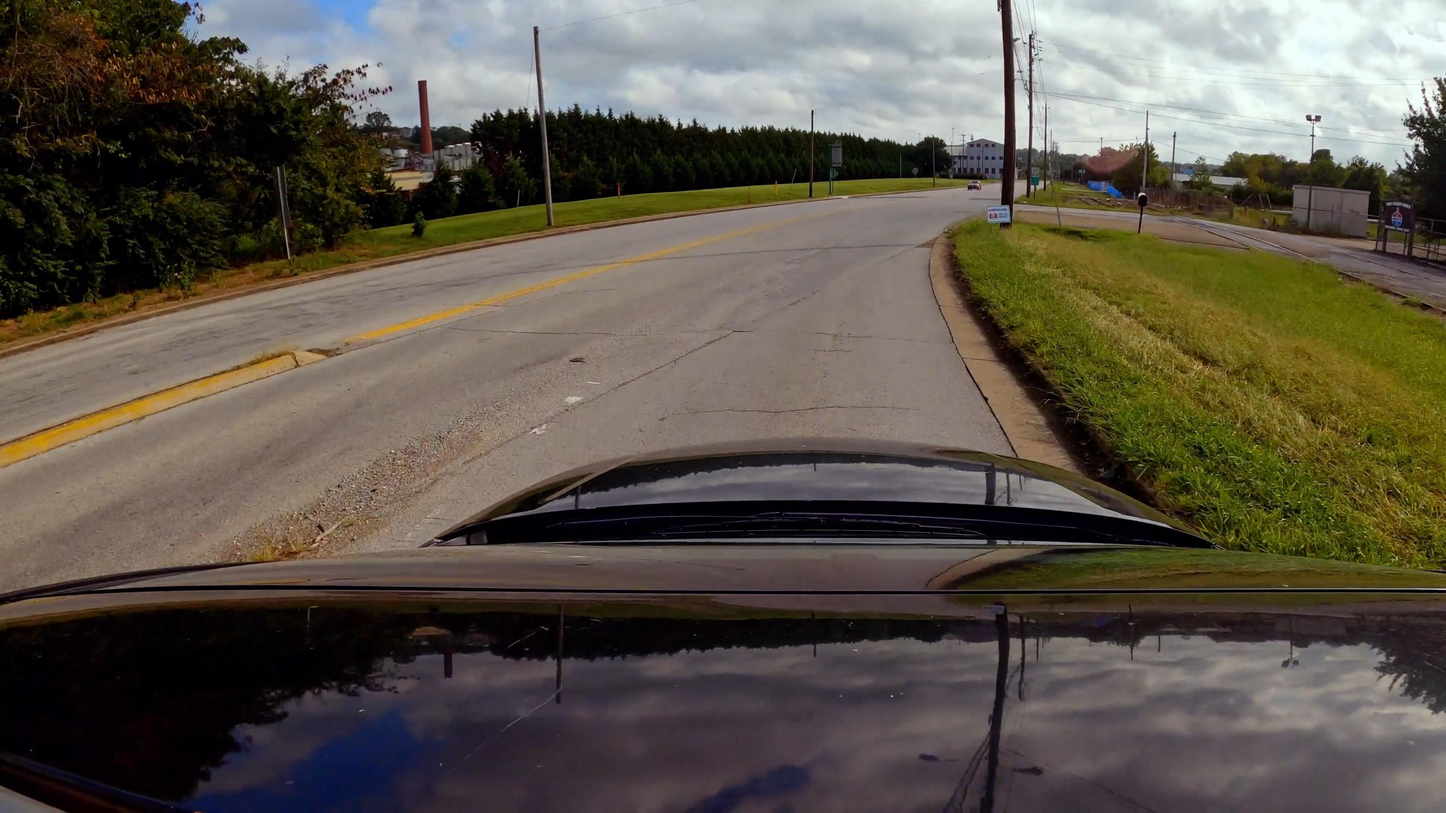dry: (0, 180, 1024, 593), (1023, 201, 1446, 312)
